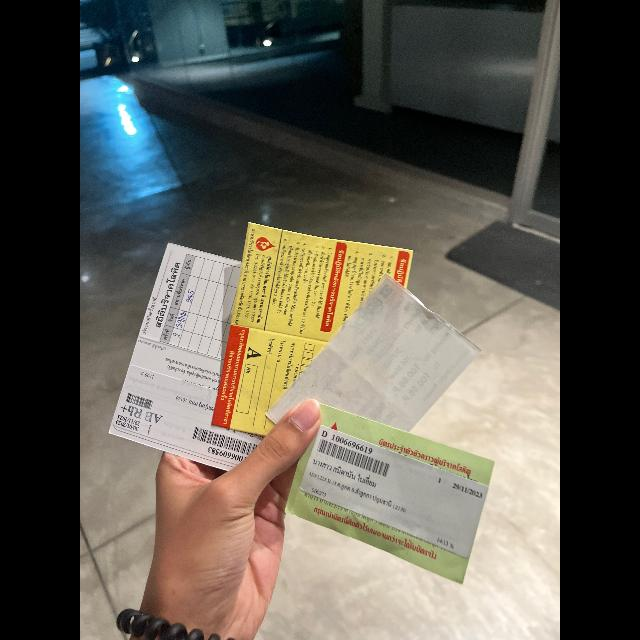scrap_paper: (207, 225, 413, 440), (285, 406, 497, 590), (115, 245, 289, 457), (274, 274, 482, 444)
